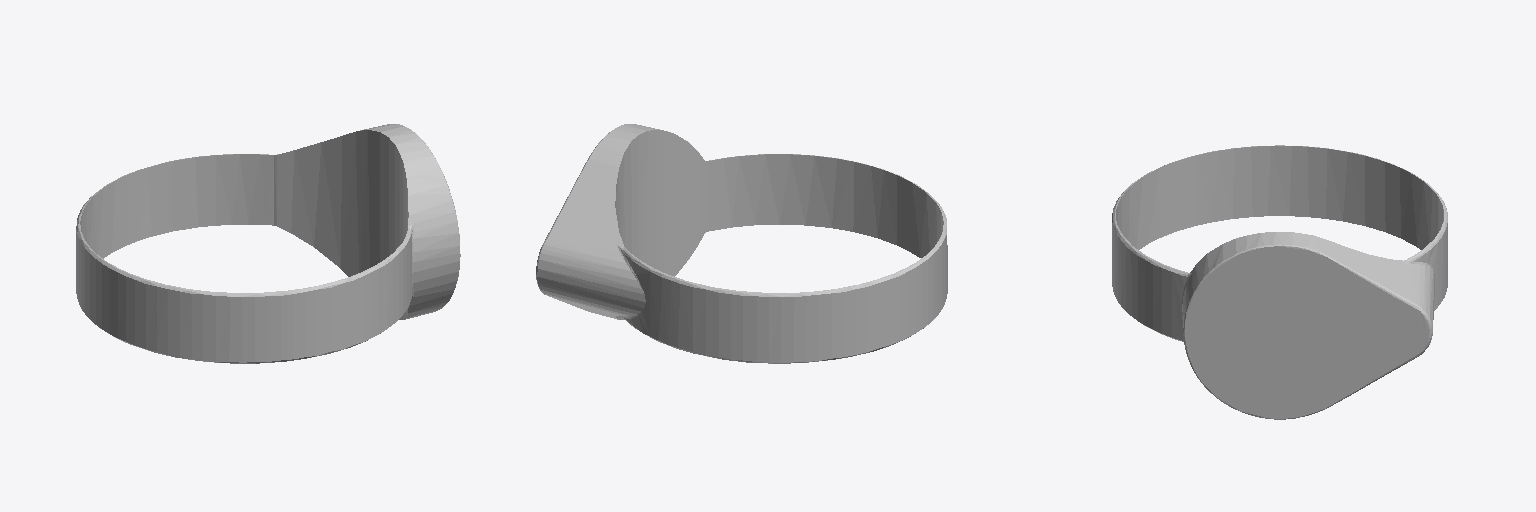
File: elbow_flex.obj
The picture shows the model from 3 angles: view 1: azimuth 30°, elevation 25°; view 2: azimuth 150°, elevation 25°; view 3: azimuth 270°, elevation 25°; orthographic projection.
Parts seen in each view (by area): view 1: elbow_flex_M_elbow_flex_MShape; view 2: elbow_flex_M_elbow_flex_MShape; view 3: elbow_flex_M_elbow_flex_MShape.
Boxes of the visible parts, <box> form: elbow_flex_M_elbow_flex_MShape: <box>76,124,460,363</box>; elbow_flex_M_elbow_flex_MShape: <box>536,124,947,363</box>; elbow_flex_M_elbow_flex_MShape: <box>1112,145,1447,419</box>.
Size of the model in its own units: 0.1725 by 0.0925 by 0.16.